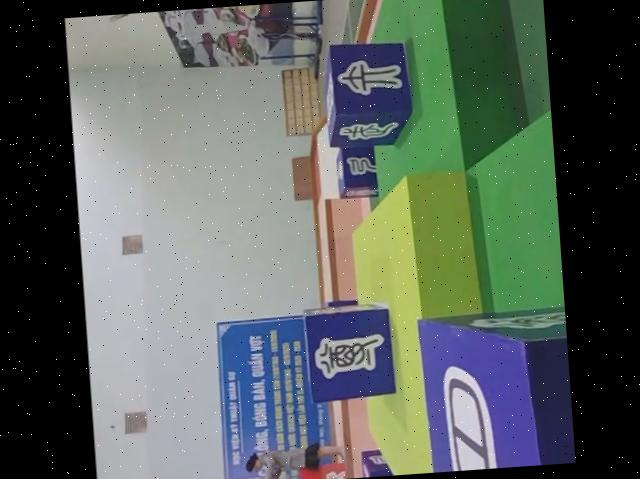R2 Fake Blue: (417, 307, 575, 472), (322, 38, 417, 147), (302, 298, 398, 402), (334, 142, 380, 198), (361, 446, 407, 477)
